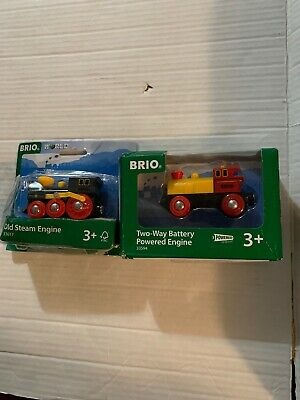brio: (158, 163, 248, 220)
